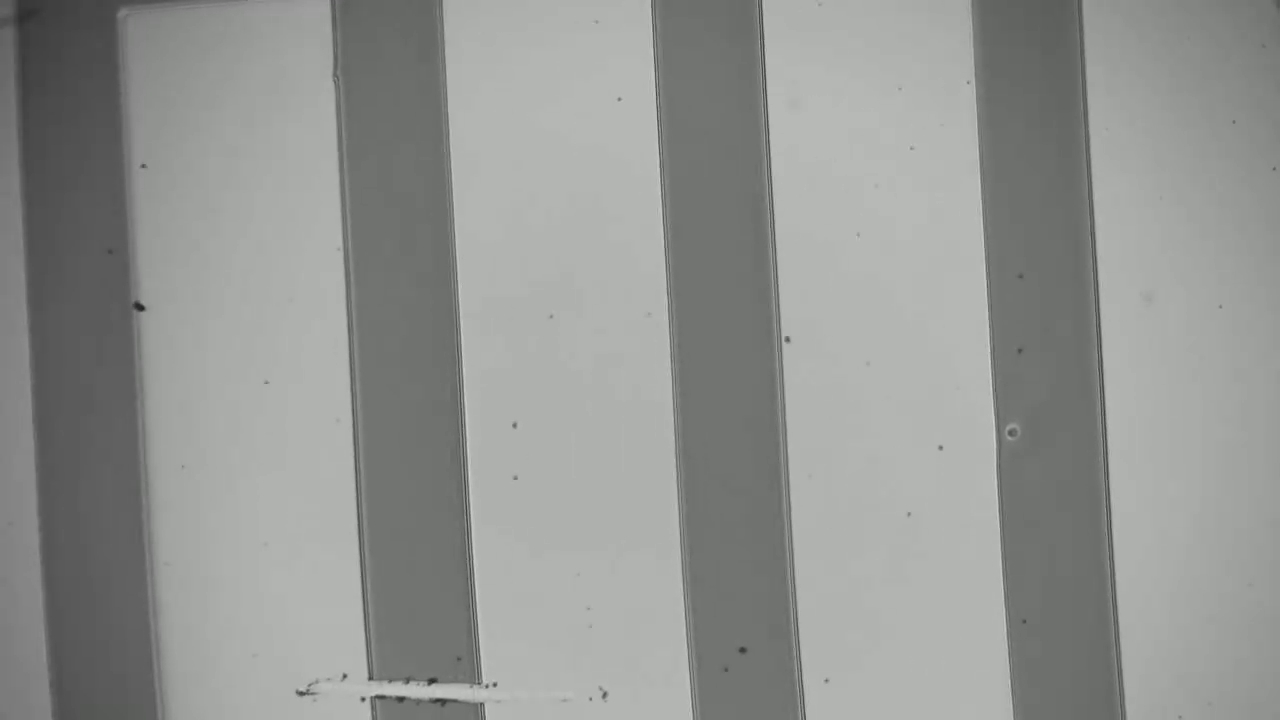Short_circuit: (353, 660, 506, 717)
